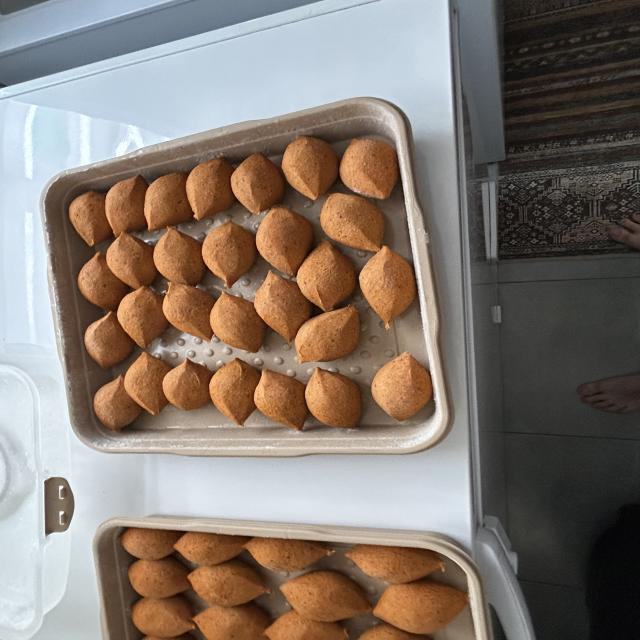kobi: (67, 132, 434, 435)
